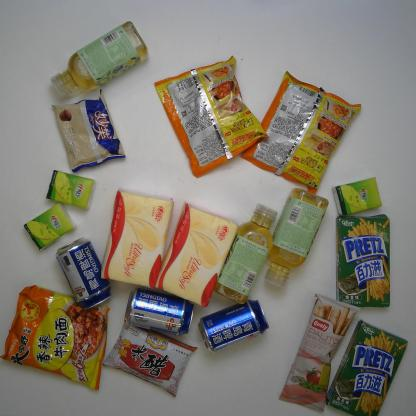Alcohol: (54, 236, 113, 310), (198, 298, 270, 354), (124, 286, 196, 336)
Dessert: (278, 292, 362, 413), (325, 318, 409, 416), (50, 88, 126, 173), (334, 214, 391, 308)
Drink: (48, 18, 150, 98), (212, 203, 278, 306), (263, 187, 329, 289)
Instant Noodles: (239, 70, 362, 195), (154, 54, 270, 179), (0, 284, 110, 392)
Seasoner: (101, 322, 198, 398)
Tissue: (154, 201, 241, 308), (99, 188, 175, 290), (22, 202, 78, 251), (331, 176, 383, 216), (45, 170, 96, 210)
